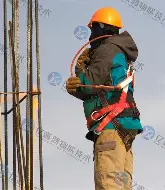safety belt: (69, 54, 142, 133)
